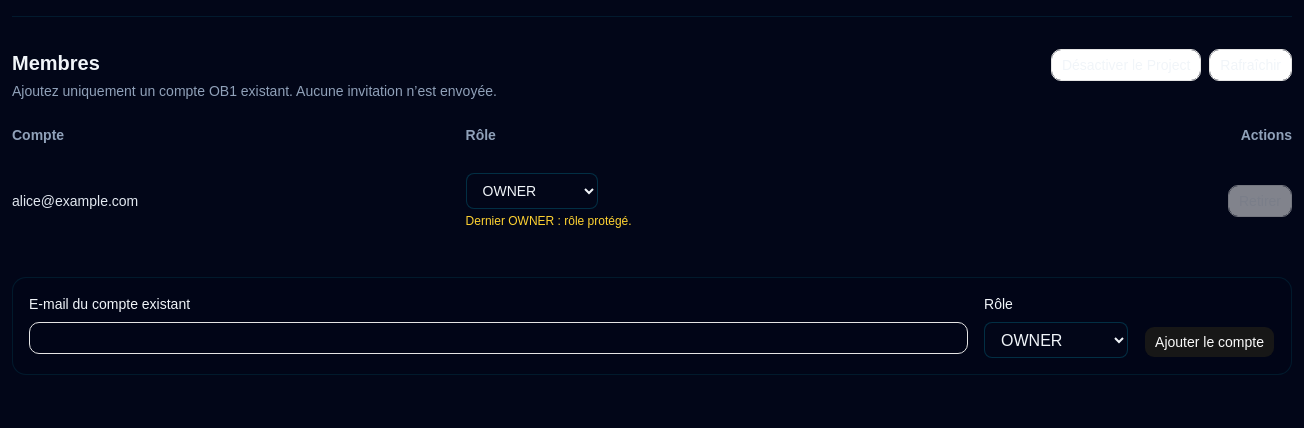
ProjectMembersPanel › conserve la session sur 403 local et ne simule aucune invitation
Expected: the text "alice@example.com" is shown, [12,157,466,245]
Expected: the text "Aucune invitation n’est envoyée" is shown, [12,83,497,99]
Step 1. Type "bob@example.com" into the field labelled "E-mail du compte existant" → point(498, 338), box [29,322,968,354]
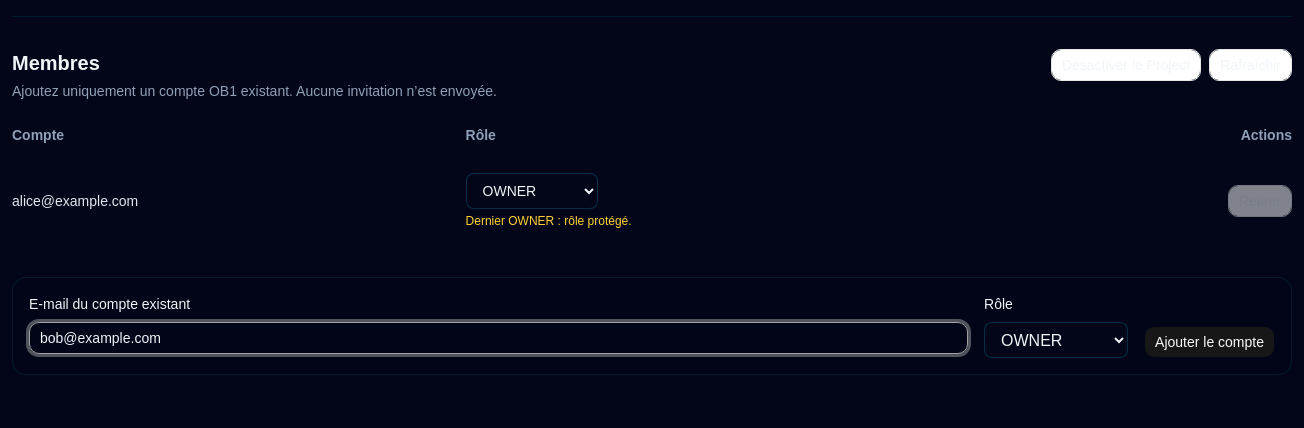
Step 2. Click the button "Ajouter le compte" → point(1210, 342), box [1144,326,1275,358]
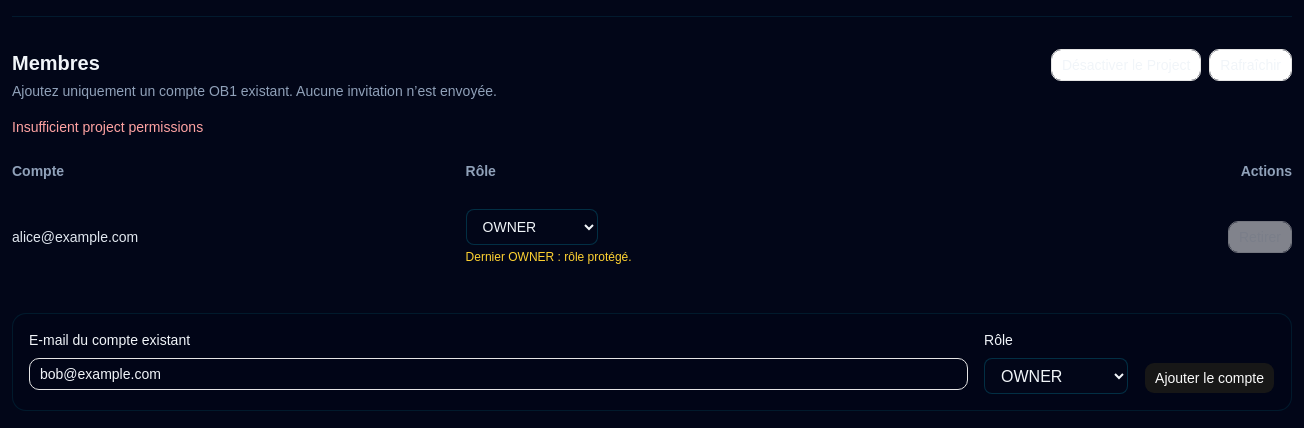
Expected: the message reads "Insufficient project permissions", [12,119,203,135]
